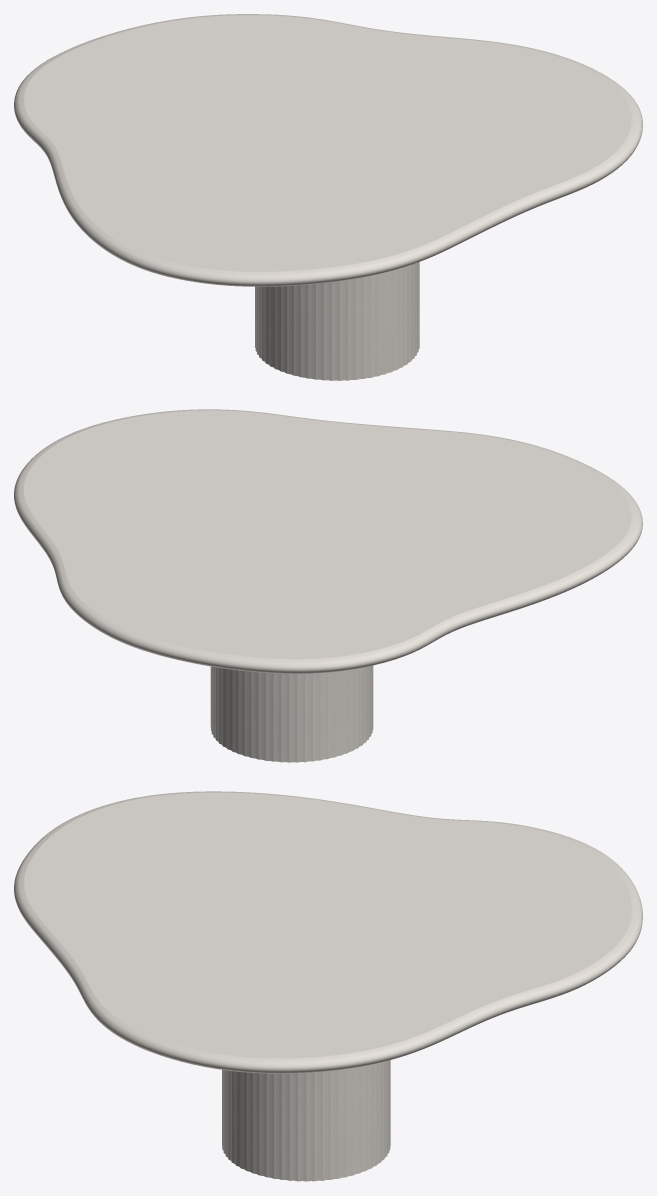
Rendered from pearlwhite_topone_round_ripple.glb.
3 renders of one model, top to bottom at view 1: azimuth 30°, elevation 25°; view 2: azimuth 150°, elevation 25°; view 3: azimuth 270°, elevation 25°, orthographic. The views are drawn at different scales.
Visible parts, largest first — view 1: round_topone, ripple; view 2: round_topone, ripple; view 3: round_topone, ripple.
Part boxes in pixels (x1=…): round_topone: x1=14, y1=14, x2=642, y2=286; ripple: x1=255, y1=262, x2=419, y2=380; round_topone: x1=14, y1=409, x2=642, y2=673; ripple: x1=210, y1=665, x2=373, y2=762; round_topone: x1=14, y1=791, x2=642, y2=1073; ripple: x1=222, y1=1060, x2=390, y2=1181.
Size of the model in its own units: 6.83 by 2.5 by 6.6.
1 material, 1 textured.
